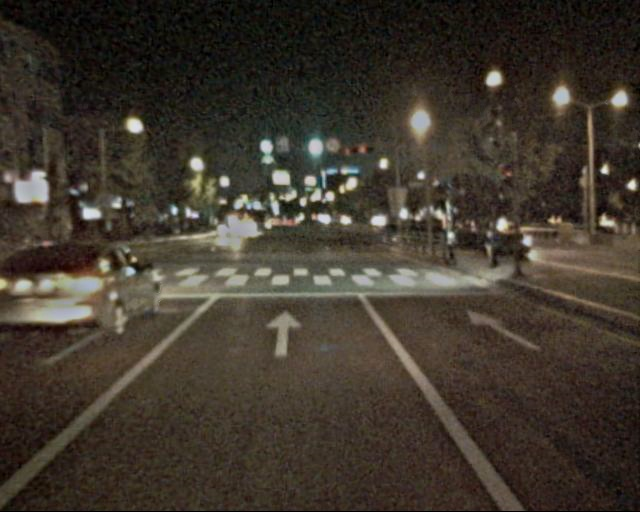person: (439, 221, 461, 275), (481, 220, 503, 273)
